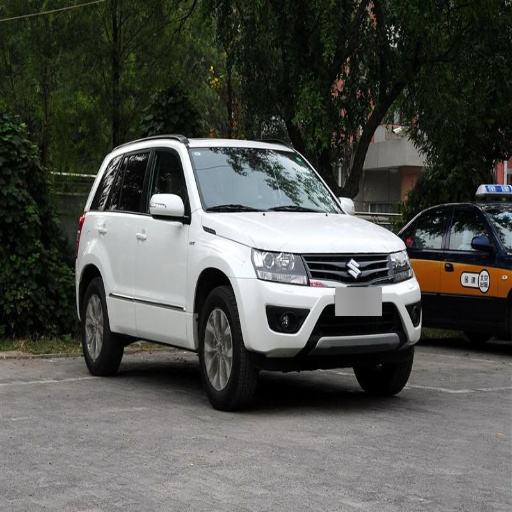front_bumper: (234, 252, 421, 368)
front_right_door: (137, 144, 189, 339)
front_right_light: (251, 250, 307, 284)
